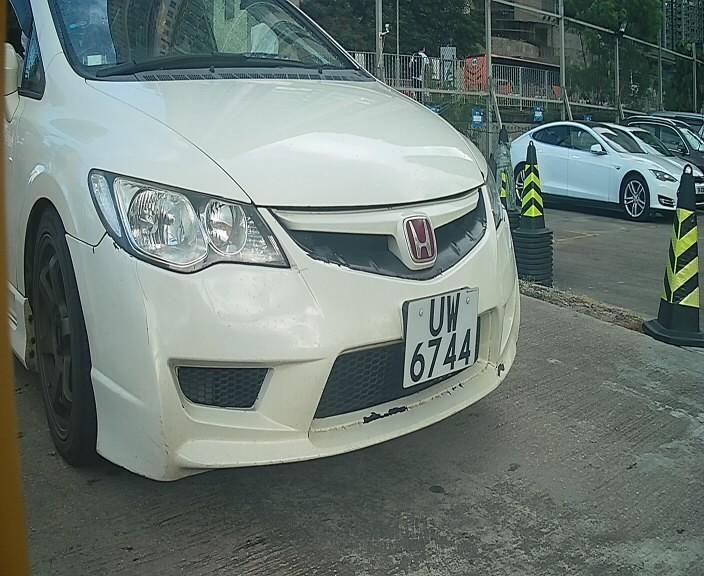License Plate: (397, 273, 494, 399)
